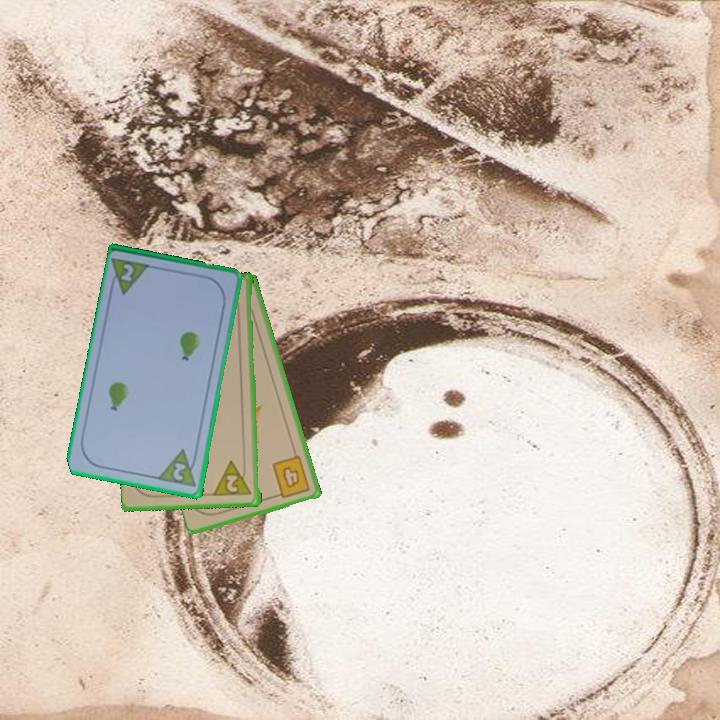2p: (212, 458, 255, 499), (117, 260, 137, 285), (170, 459, 189, 484)
4b: (269, 452, 313, 501)
